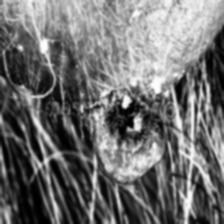Potentially Malignant Skin Tumors: (84, 80, 178, 203)
